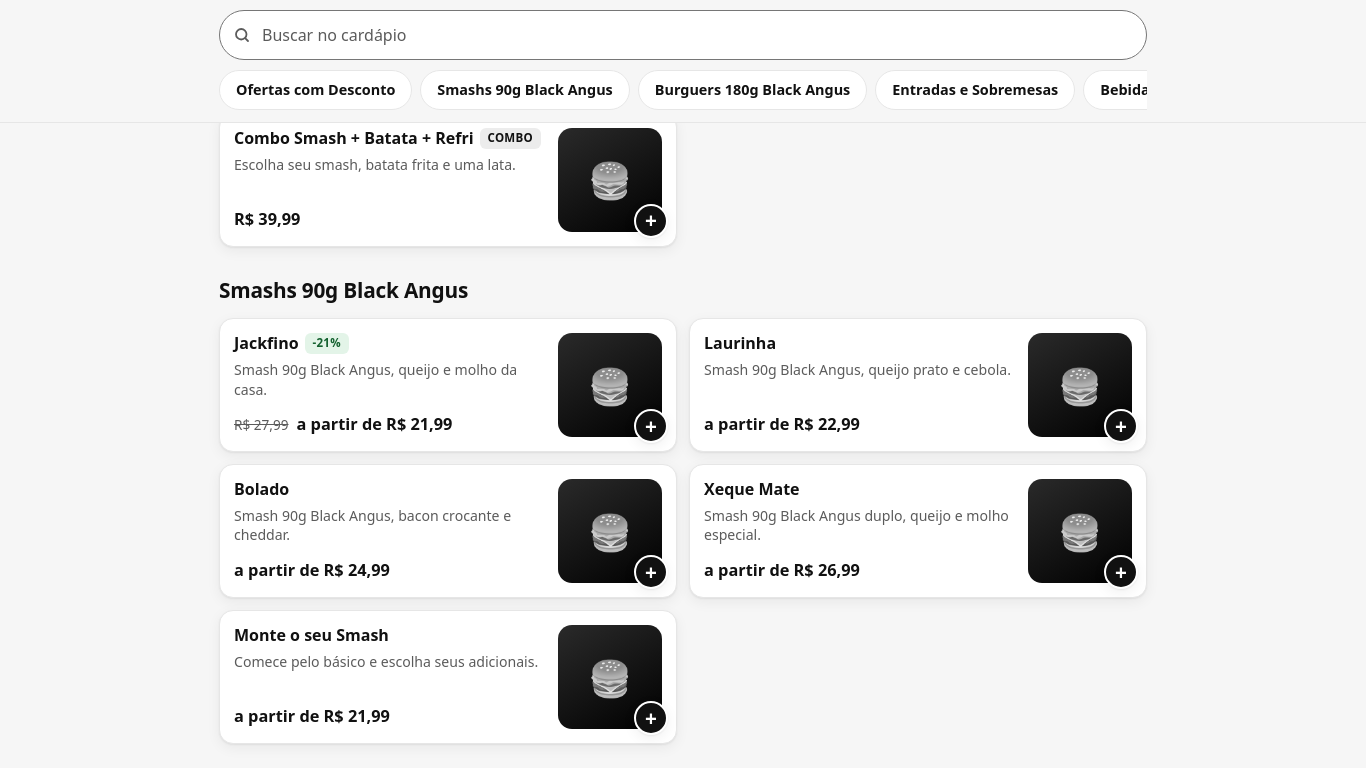
it: Cardápio público › monta um item com adicionais, soma o preço e leva para a sacola
(page scrolled)
What coordinates should you click on to do the following:
click the button "Jackfino"
I would click on:
 (266, 343)
Its box is x1=219 y1=318 x2=677 y2=452.
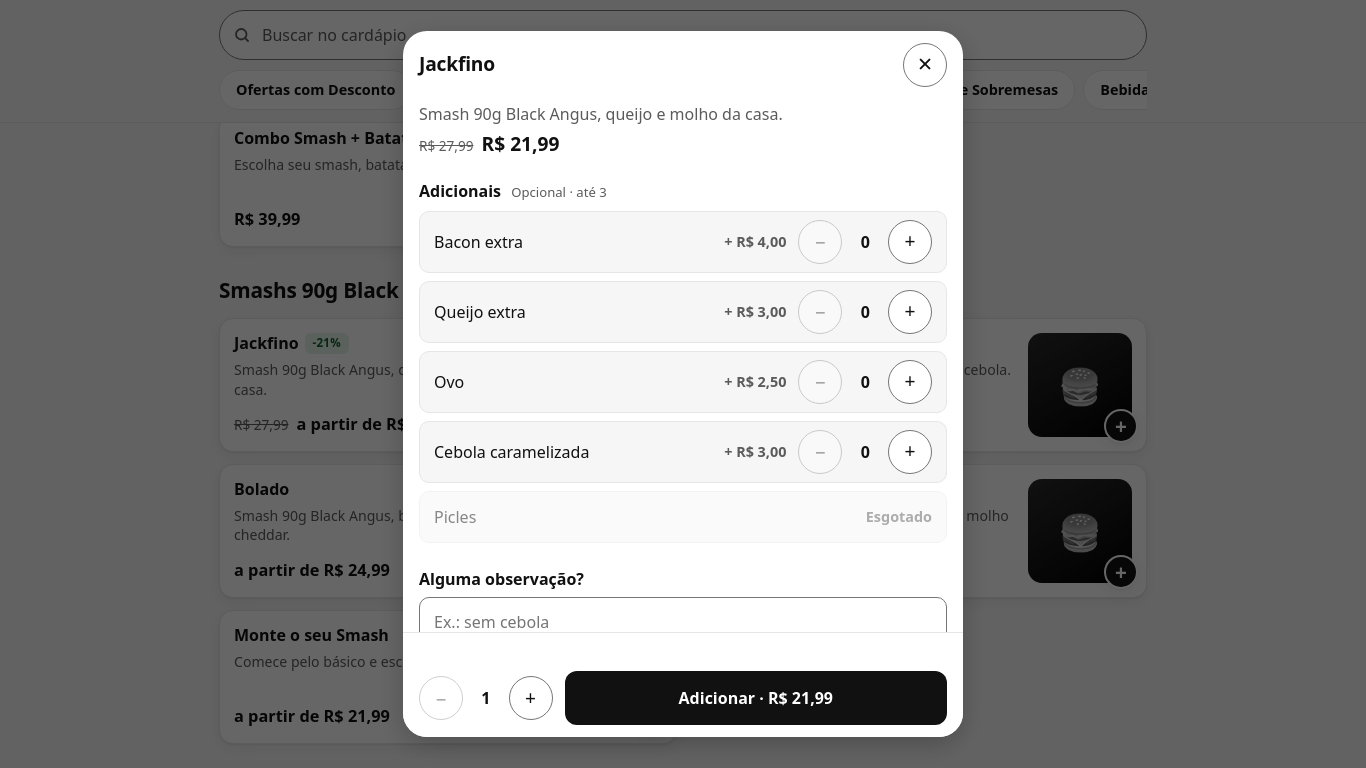
What coordinates should you click on to do the following:
click the button named "Aumentar quantidade de Bacon extra"
I would click on:
 (910, 242)
Its box is x1=888 y1=220 x2=932 y2=264.
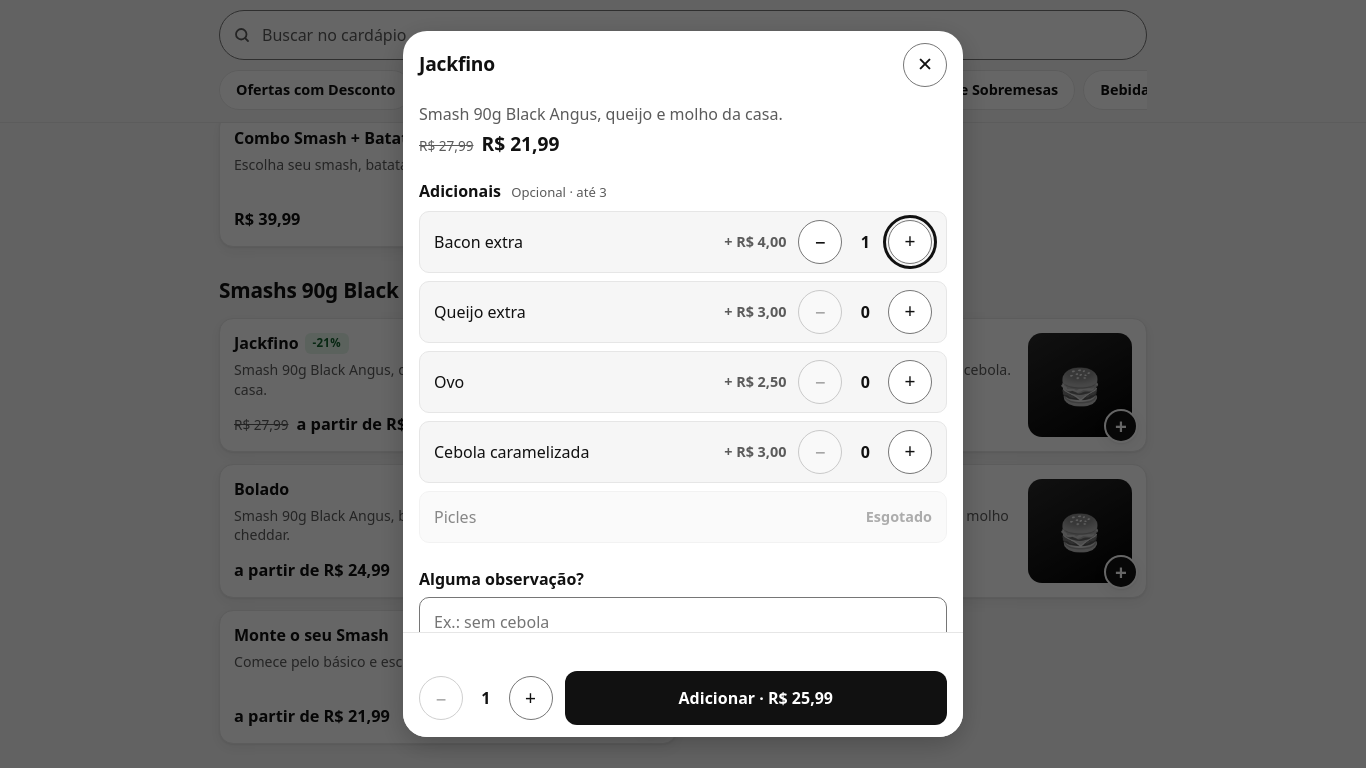
What coordinates should you click on to do the following:
click the button named "Aumentar quantidade de Ovo"
I would click on:
 (910, 382)
Its box is x1=888 y1=360 x2=932 y2=404.
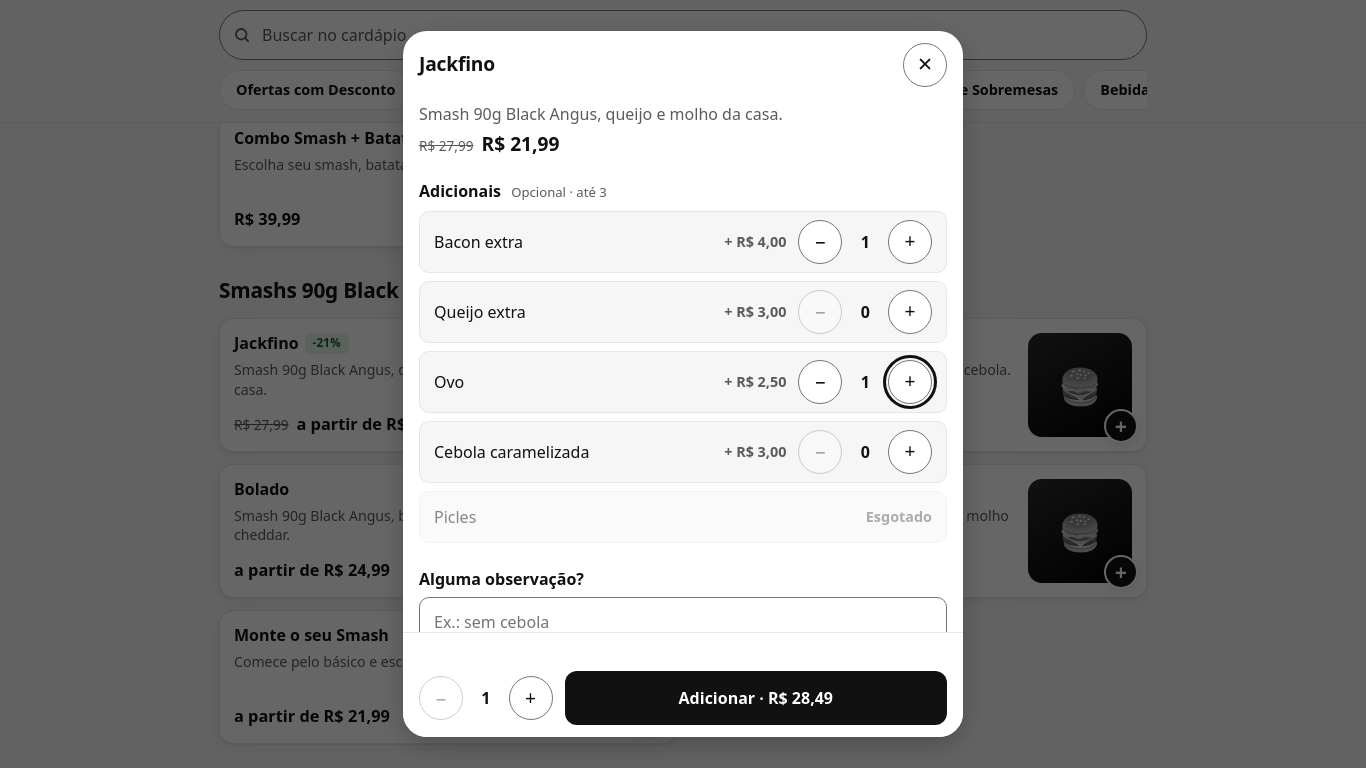
Check: the button "Adicionar · R$ 28,49" is shown, box x1=565 y1=671 x2=947 y2=725
What coordinates should you click on to do the following:
click the button named "Aumentar quantidade de Jackfino"
I would click on:
 (531, 698)
Its box is x1=509 y1=676 x2=553 y2=720.
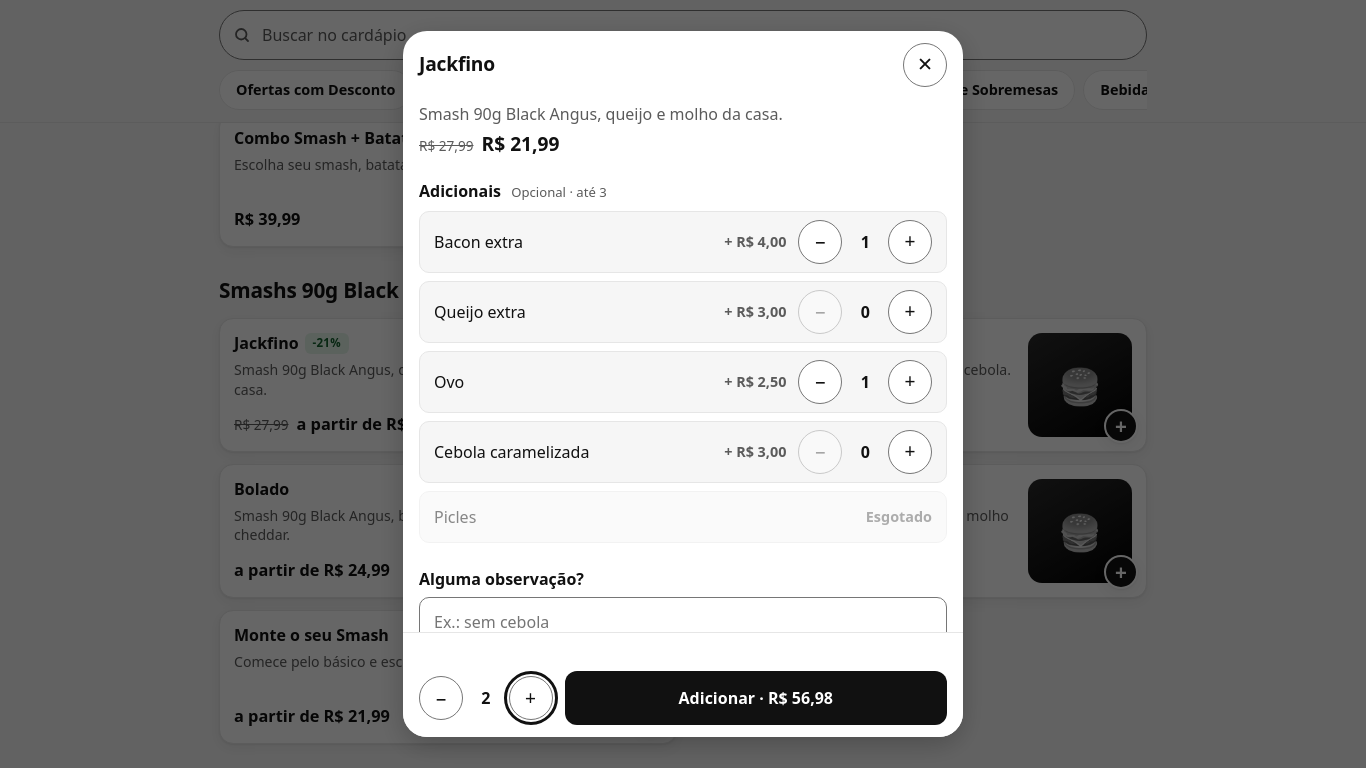
Check: the button "Adicionar · R$ 56,98" is shown
What coordinates should you click on to do the following:
click the button "Adicionar · R$ 56,98"
I would click on:
 (756, 698)
Its box is x1=565 y1=671 x2=947 y2=725.
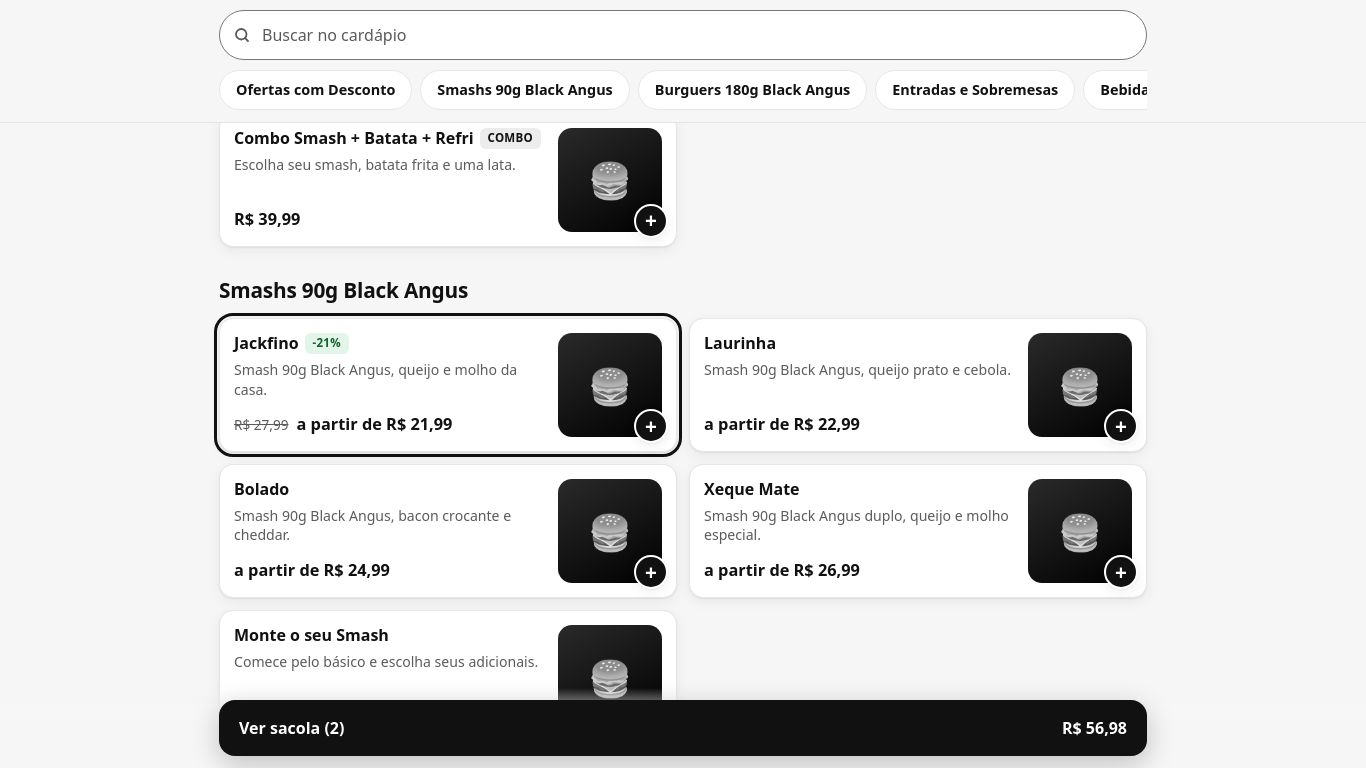
Check: the button "Ver sacola (2) R$ 56,98" is shown
Check: the dialog is gone
What coordinates should you click on to do the following:
click the button "Ver sacola (2) R$ 56,98"
I would click on:
 (284, 728)
Its box is x1=219 y1=700 x2=1147 y2=756.
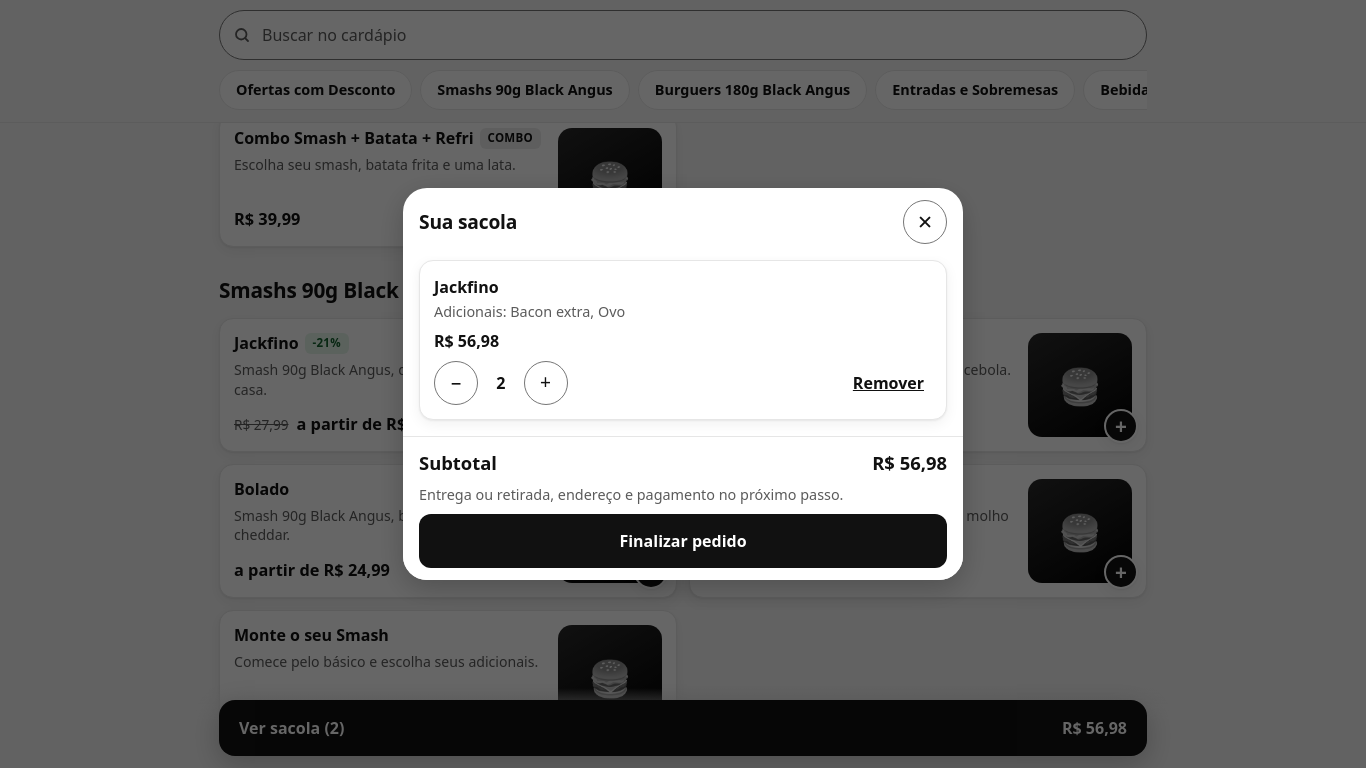
Check: the text "Adicionais: Bacon extra, Ovo" is shown, box x1=434 y1=302 x2=625 y2=321
Check: the button "Finalizar pedido" is enabled, box x1=419 y1=514 x2=947 y2=568
